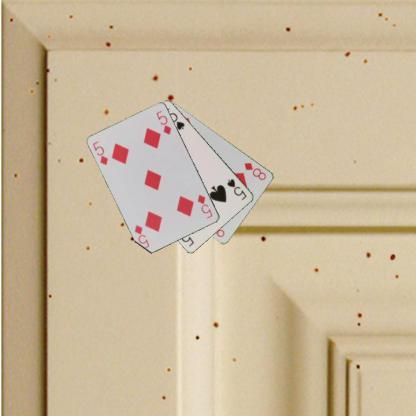5d: (90, 138, 109, 166), (196, 192, 214, 221)
5s: (225, 176, 248, 202)
8d: (242, 160, 268, 182)
